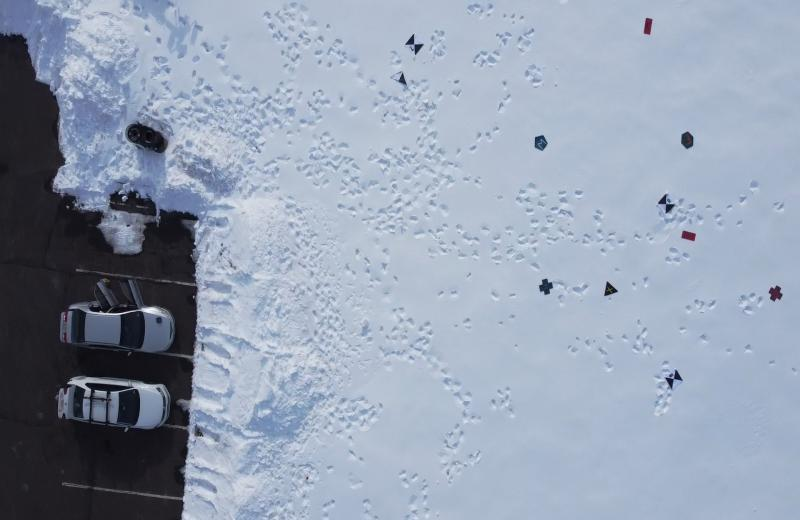Cross: (768, 283, 784, 301), (538, 278, 554, 296)
Hexagon: (680, 132, 696, 150)
Pentagon: (532, 131, 549, 151)
Rectangle: (680, 228, 697, 242), (642, 18, 652, 34)
Triangle: (602, 279, 618, 299)
